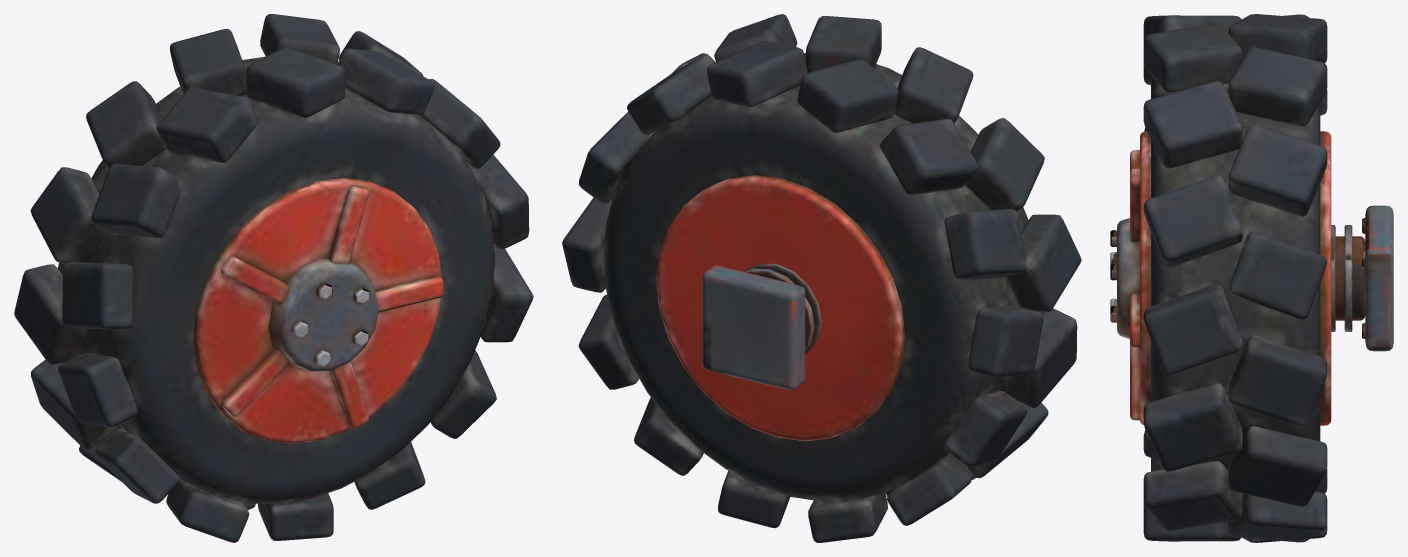
The model's file is bigwheel.glb.
The picture shows the model from 3 angles, left to right: view 1: azimuth 30°, elevation 25°; view 2: azimuth 150°, elevation 25°; view 3: azimuth 270°, elevation 25°; orthographic projection. The views are drawn at different scales.
Parts seen in each view (by area): view 1: spin; view 2: spin, body; view 3: spin, body.
Part boxes in pixels (x1,y1,x2,y2): spin: [14, 14, 533, 542]; spin: [562, 14, 1081, 542]; body: [702, 263, 821, 390]; spin: [1110, 14, 1331, 542]; body: [1331, 205, 1393, 351].
Bounding box in the file's own units: 0.9359 × 0.9359 × 0.5018.
Materials: 1 (1 with a texture image).
